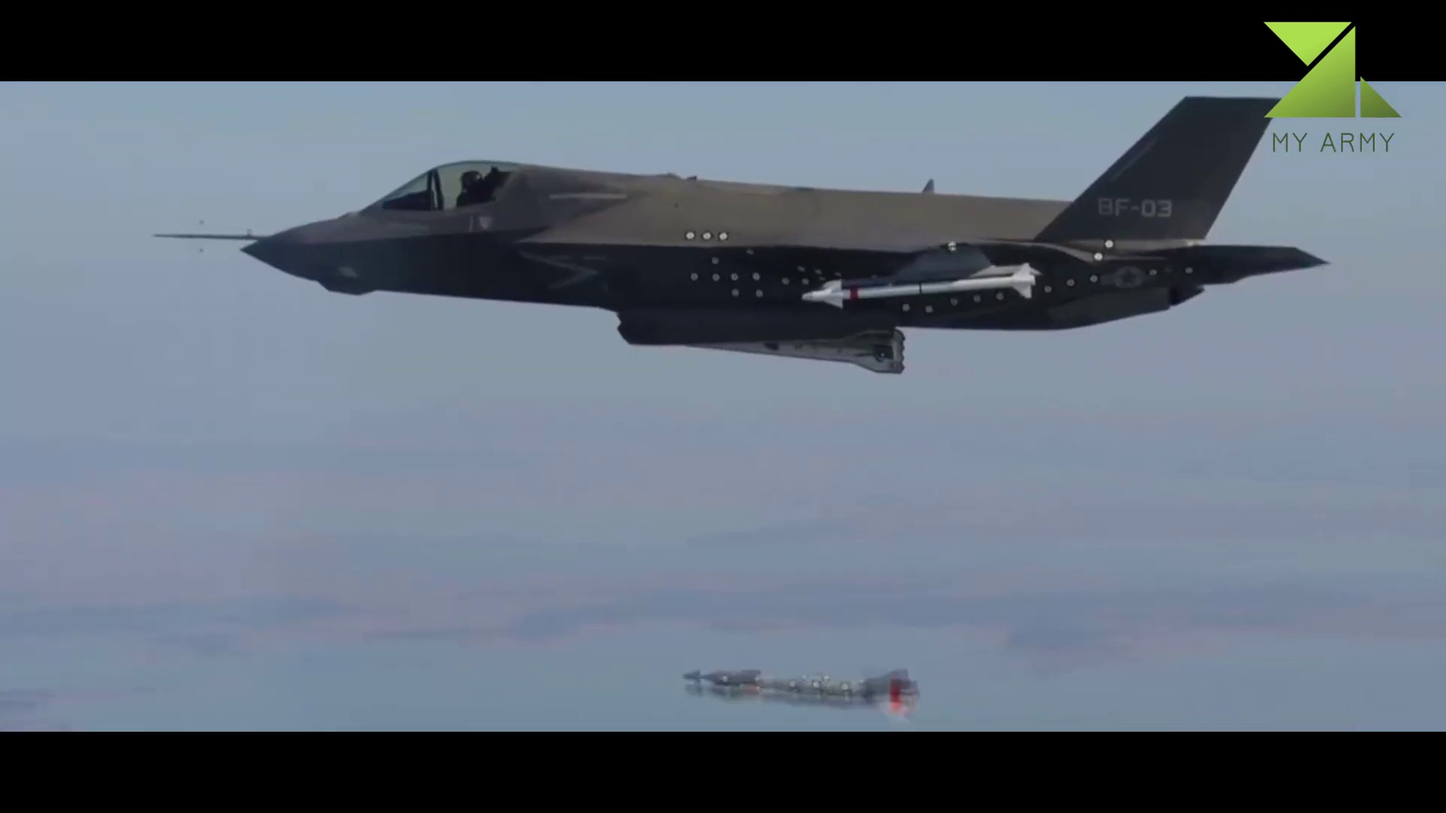F35: (140, 84, 1339, 389)
